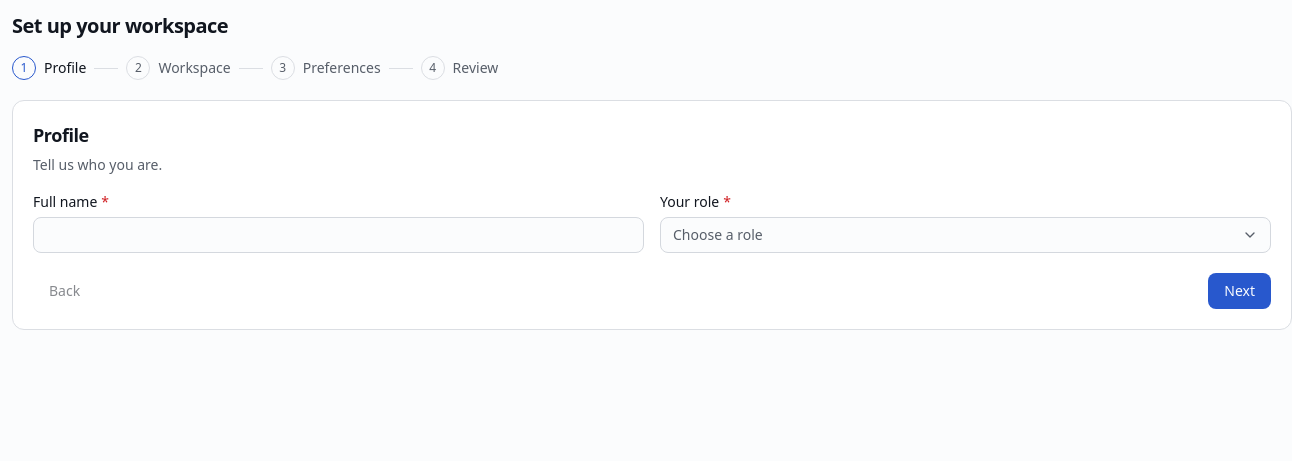
Test: MultiStepOnboarding › moving between steps › keeps the answers when the user goes back
Type "Alex Nguyen" into the field labelled "Full name" at (338, 235), box left=33, top=217, right=644, bottom=253
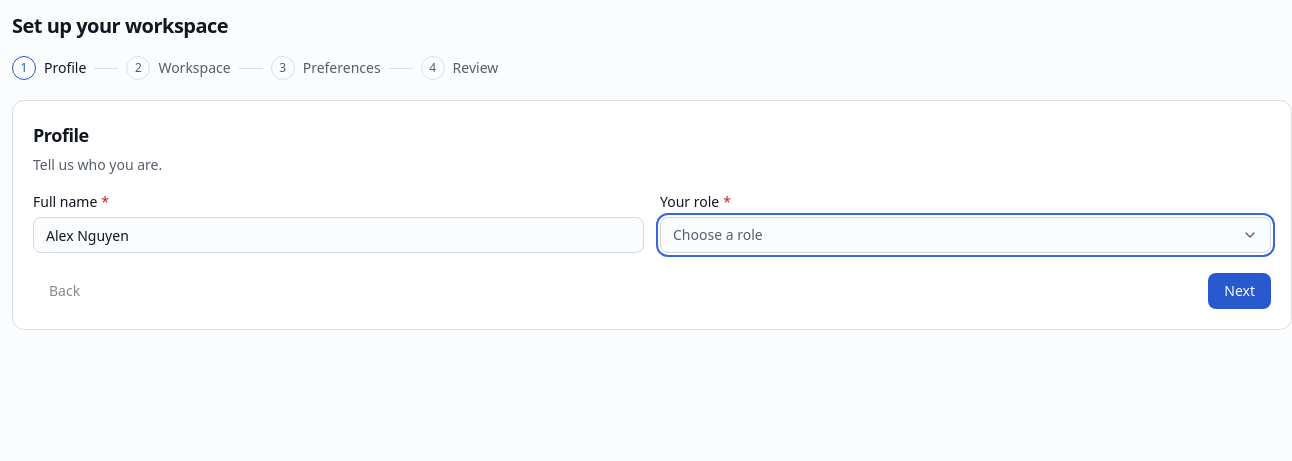
Press Enter
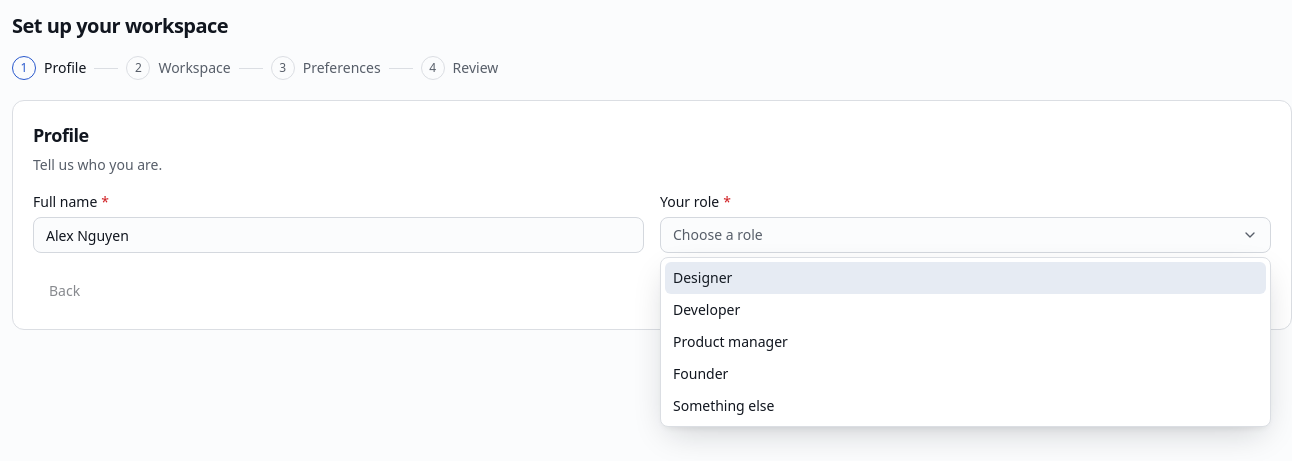
Click the option "Designer" at (703, 278), box left=665, top=262, right=1266, bottom=294
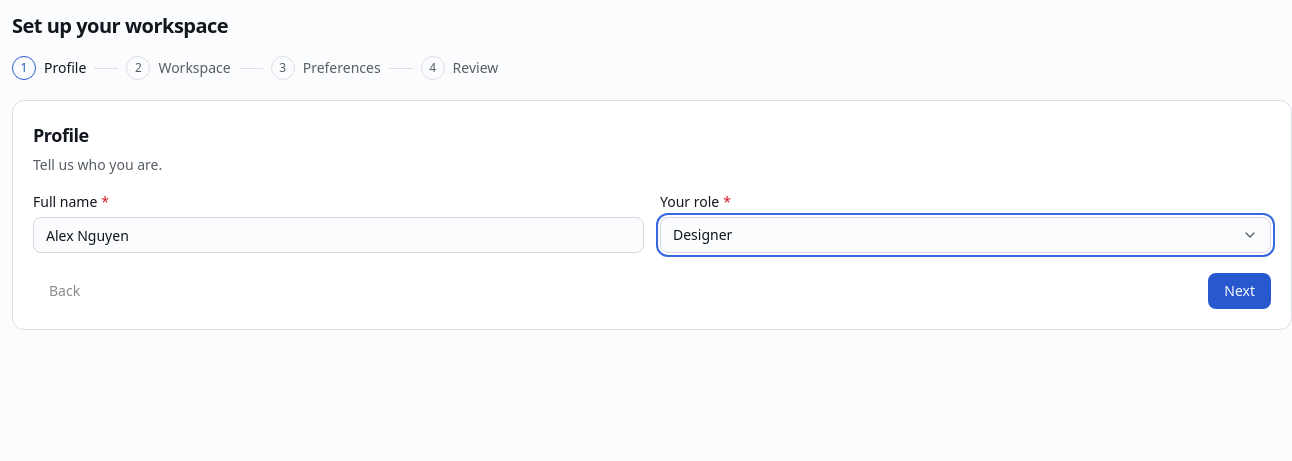
Click the button "Next" at (1240, 291), box left=1208, top=273, right=1271, bottom=309
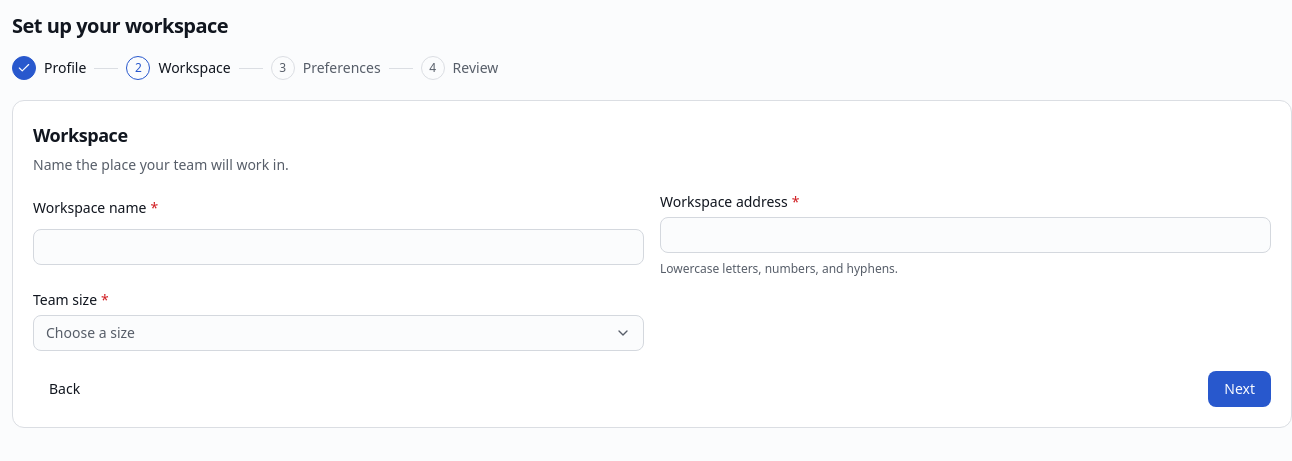
Click the button "Back" at (65, 389), box left=33, top=371, right=96, bottom=407
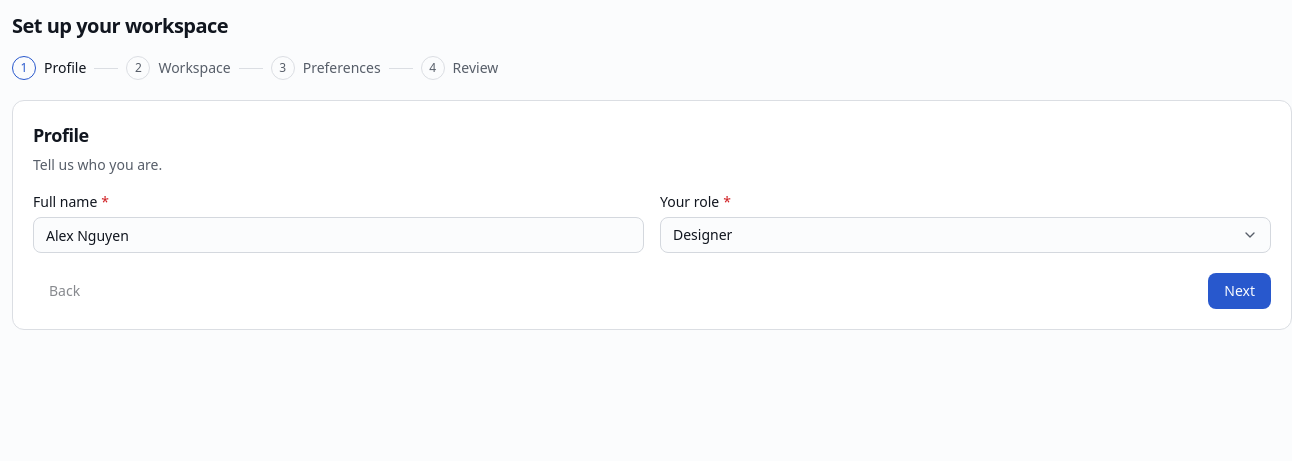
Result: the field labelled "Full name" holds "Alex Nguyen" at left=33, top=217, right=644, bottom=253
Result: the dropdown named "Your role" reads "Designer" at left=660, top=217, right=1271, bottom=253
